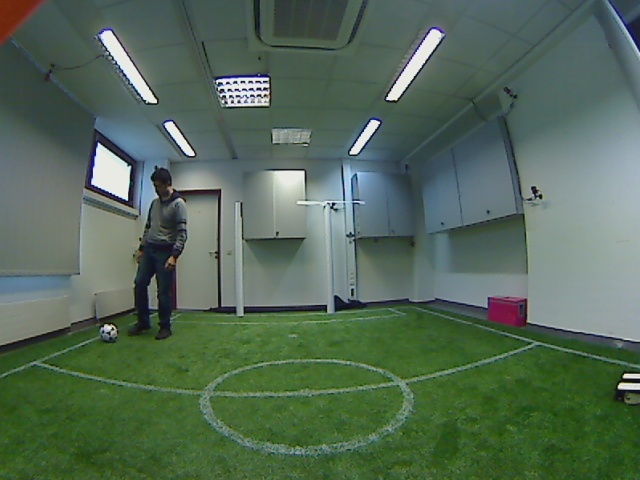ball: (96, 318, 123, 346)
